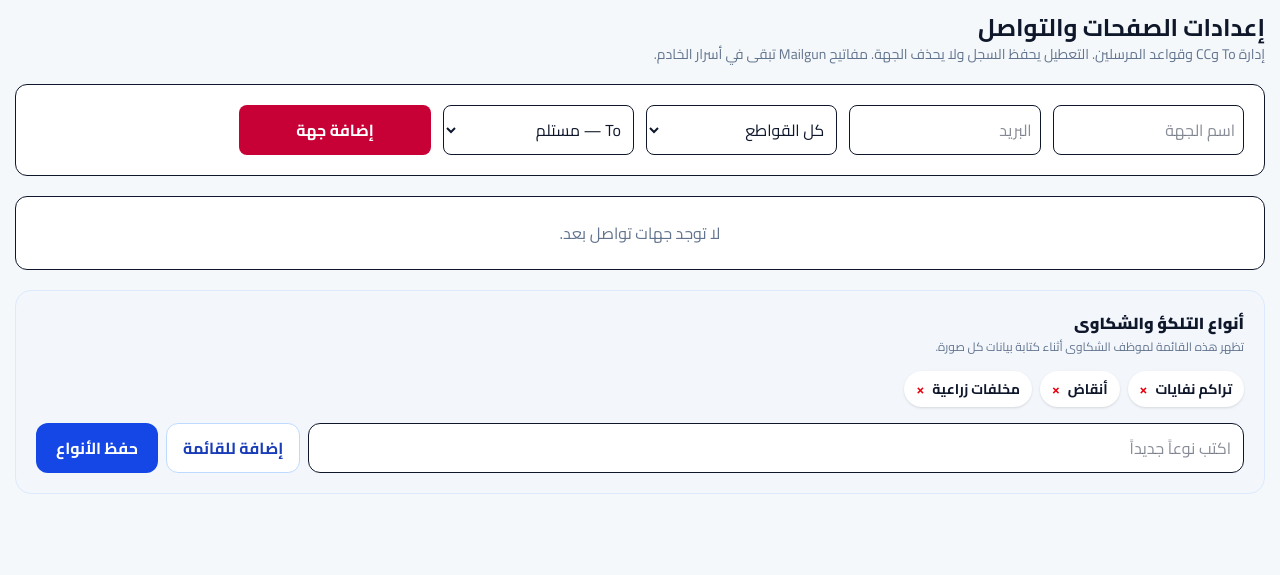
Test: وحدة الإعدادات والتواصل — SettingsPage › يمنع الحفظ ببيانات ناقصة أو بريد غير صالح
Click the button "إضافة جهة".
click(335, 130)  # box [239,105,431,155]
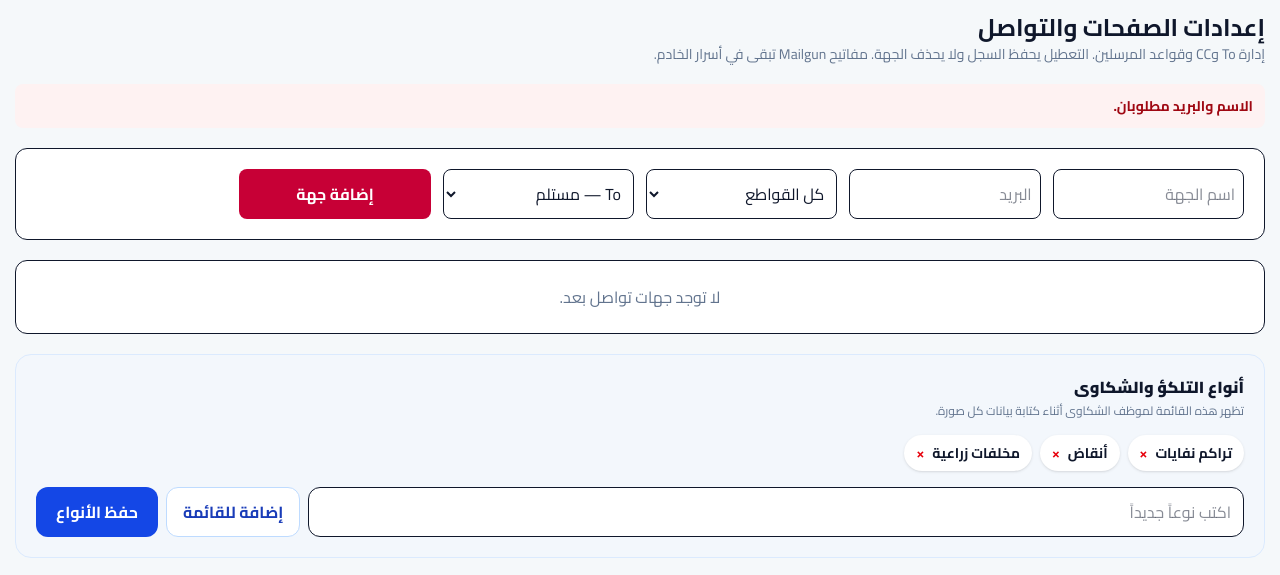
Expected: the text "الاسم والبريد مطلوبان." is shown, [15,84,1265,128]
Type "م. زينب" into the field labelled "اسم الجهة".
click(1148, 194); type("م. زينب")  # box [1053,169,1244,219]
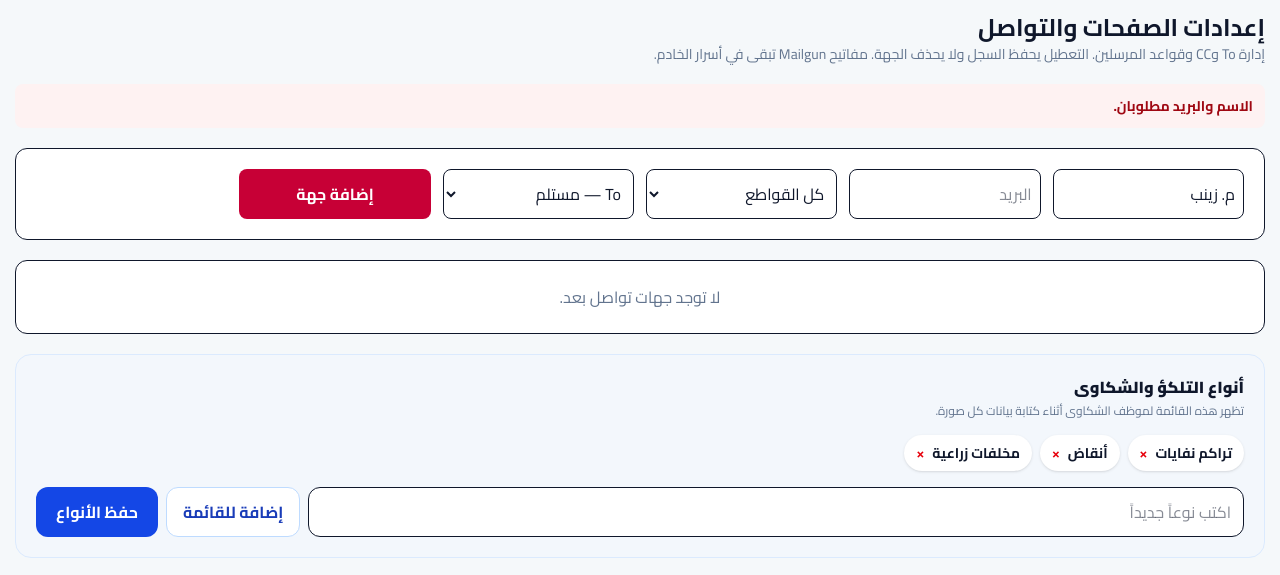
Type "bad-email" into the field named "بريد الجهة".
click(945, 194); type("bad-email")  # box [849,169,1041,219]
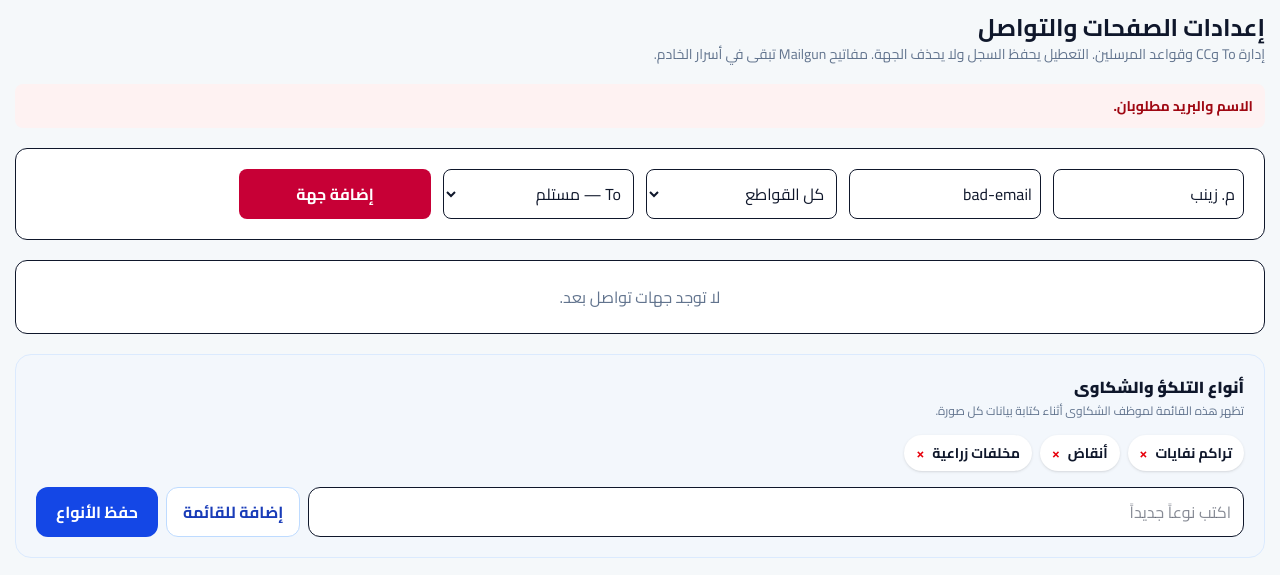
Click the button "إضافة جهة".
click(335, 194)  # box [239,169,431,219]
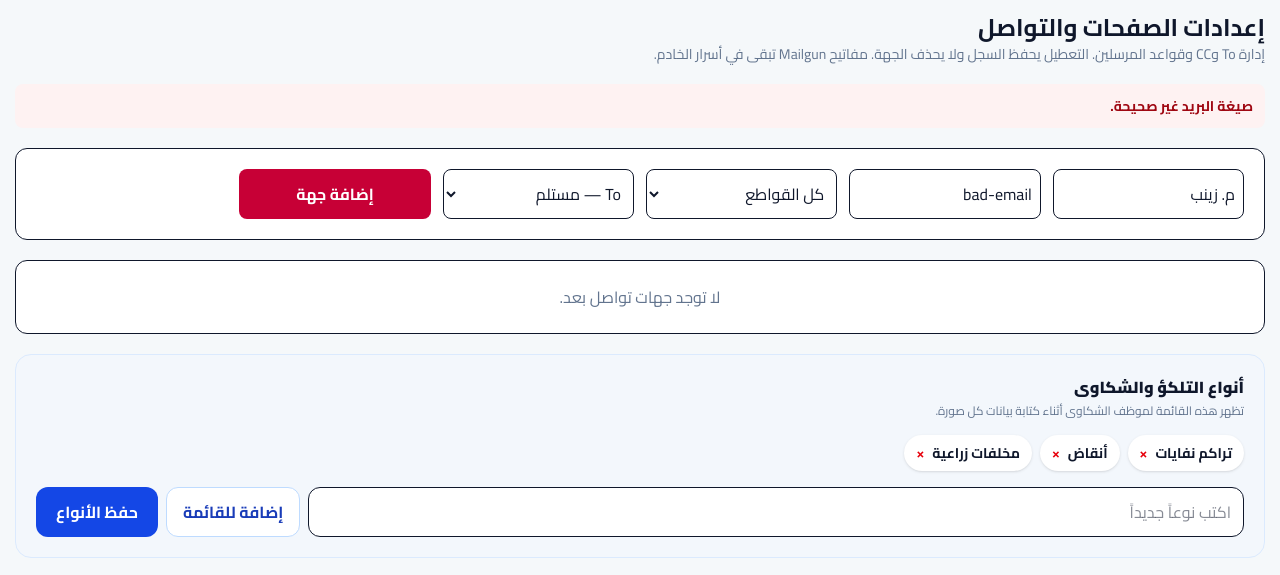
Expected: the text "صيغة البريد غير صحيحة." is shown, [15,84,1265,128]
